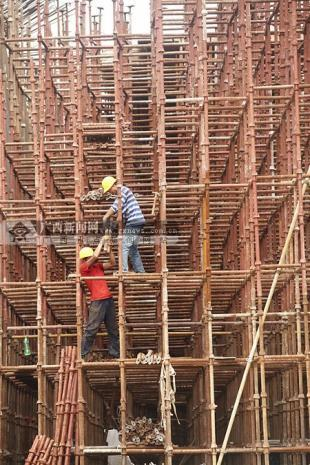helmet: (99, 171, 119, 198), (76, 245, 98, 269)
